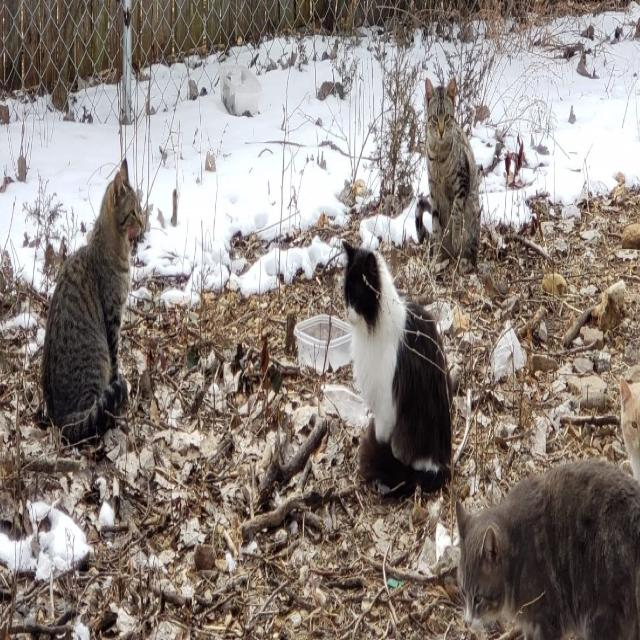cat: (456, 462, 640, 637), (42, 162, 140, 441), (344, 243, 451, 491), (418, 81, 480, 263)
